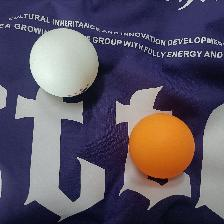WhiteBall: (29, 27, 99, 97)
YellowBall: (128, 111, 195, 178)
